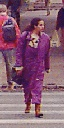person: (20, 19, 50, 109)
